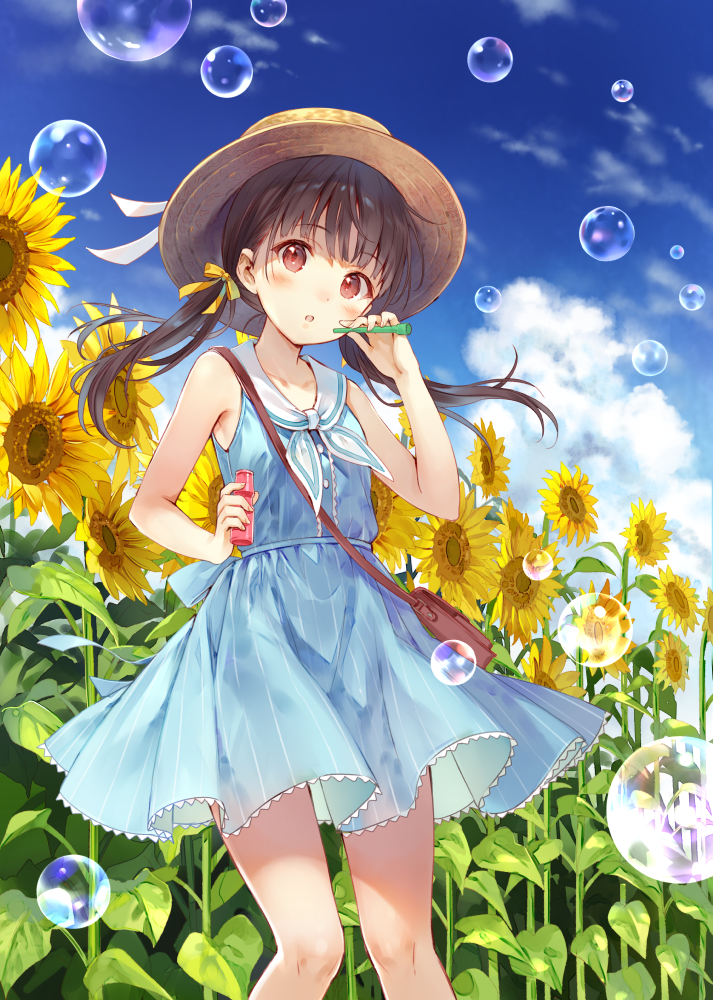纸片人正脸: (165, 107, 467, 355)
